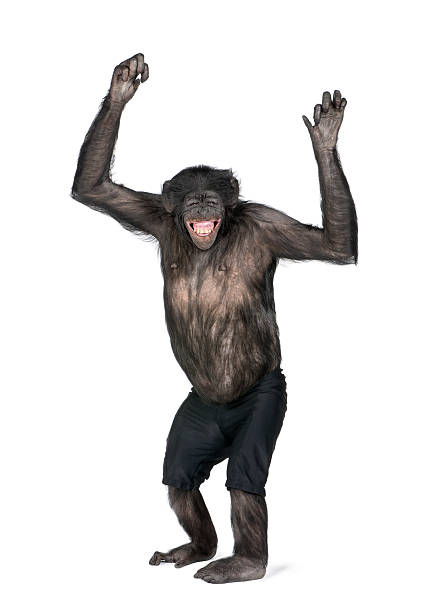chimpanzee: (153, 158, 291, 264)
